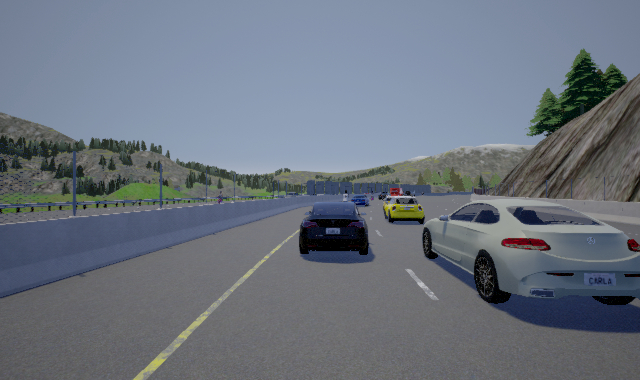vehicle: (422, 199, 640, 305), (297, 200, 370, 255), (382, 197, 425, 224), (350, 194, 371, 207)
